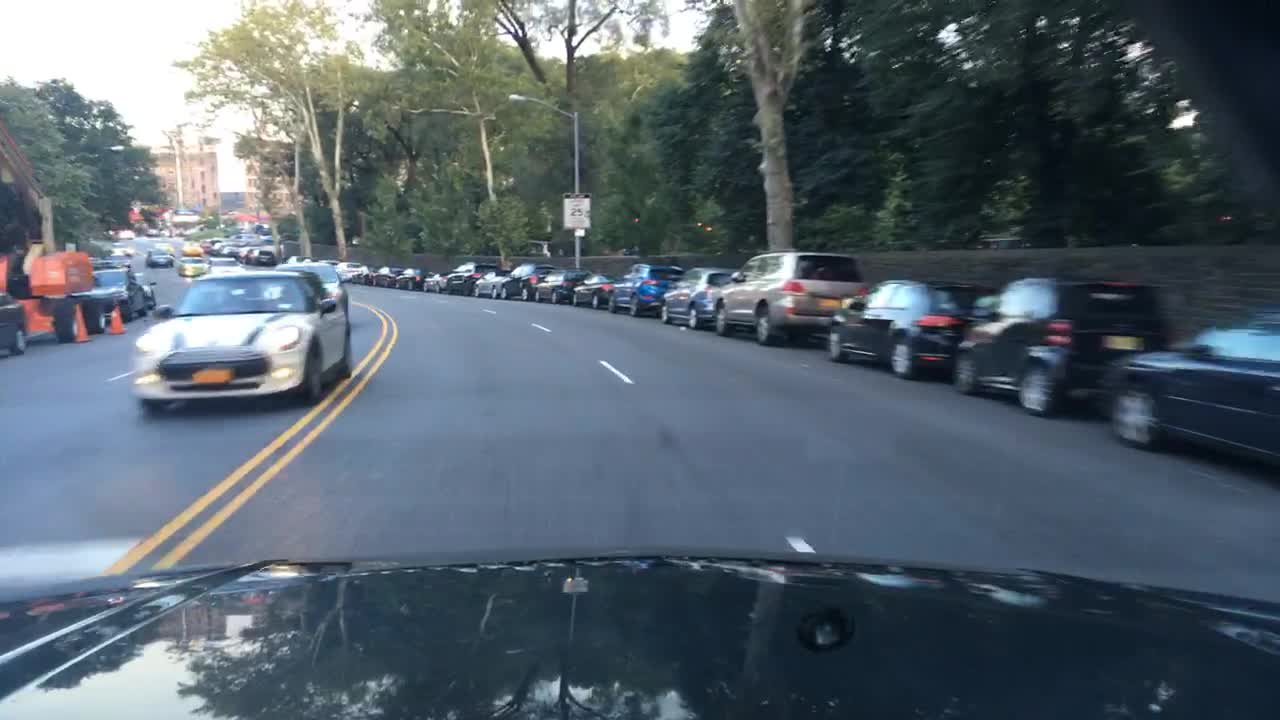car: (132, 272, 350, 414), (959, 274, 1170, 417), (1098, 308, 1278, 466), (823, 277, 995, 380), (709, 252, 865, 343), (660, 265, 736, 328), (610, 262, 683, 316), (275, 262, 349, 309), (82, 270, 148, 321), (532, 270, 592, 306), (501, 264, 555, 299), (571, 274, 623, 309), (447, 263, 496, 294), (474, 270, 510, 296), (224, 237, 272, 254), (136, 273, 157, 306), (398, 269, 426, 291), (371, 267, 401, 285), (204, 258, 240, 272), (175, 258, 204, 275), (424, 272, 449, 291), (339, 260, 360, 281), (351, 268, 379, 283), (179, 239, 203, 255), (145, 252, 169, 267), (252, 249, 275, 262), (107, 243, 128, 255), (207, 237, 225, 250), (154, 240, 172, 252), (237, 247, 250, 259)
traffic sign: (561, 197, 588, 230)
truck: (0, 121, 93, 355)
